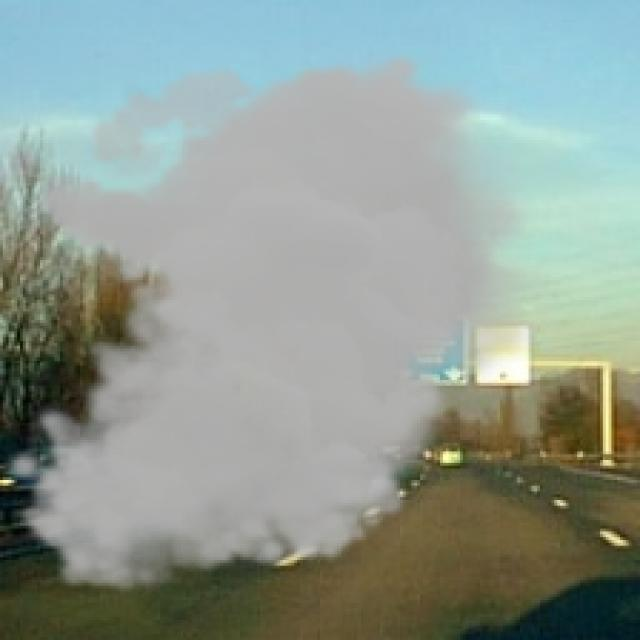Smoke: (0, 48, 549, 594)
